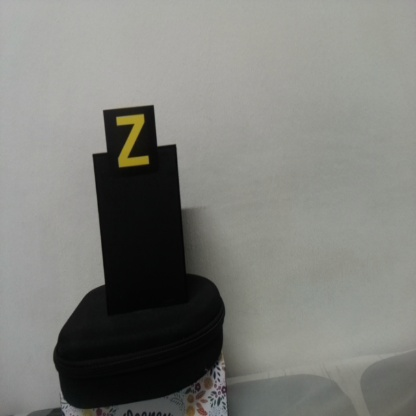id_15: (103, 110, 158, 178)
